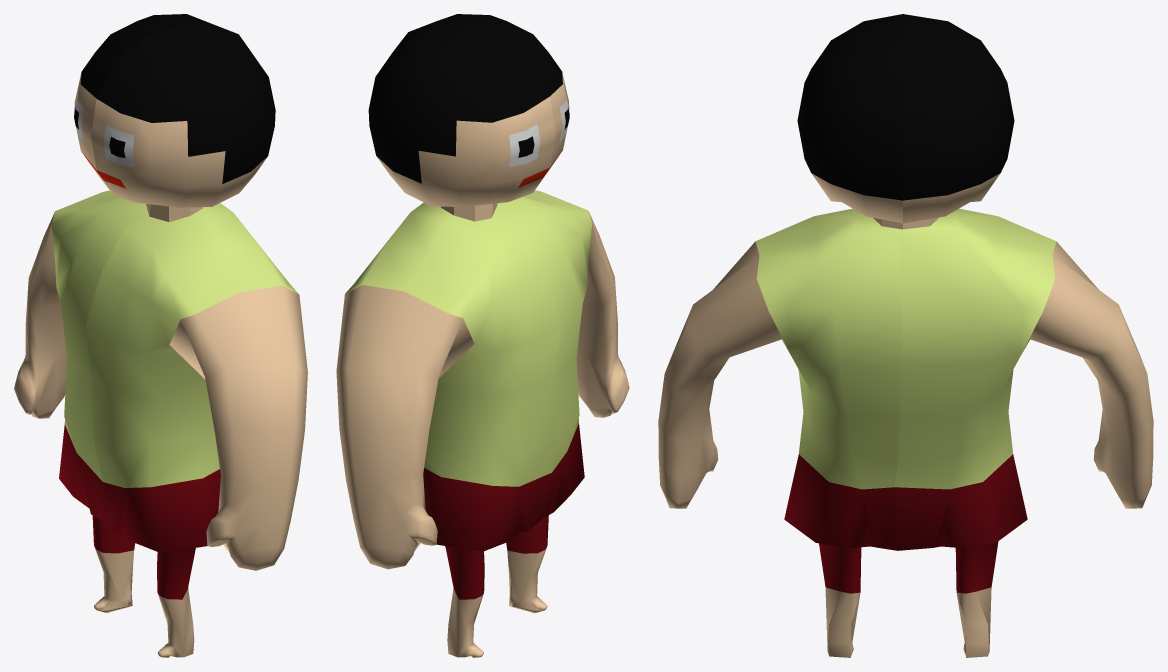
The model's file is Character.fbx.
3 views of the same model, side by side, from view 1: azimuth 30°, elevation 25°; view 2: azimuth 150°, elevation 25°; view 3: azimuth 270°, elevation 25° (orthographic). The views are drawn at different scales.
Parts seen in each view (by area): view 1: Character, legLeft, legRight; view 2: Character, legRight, legLeft; view 3: Character, legRight, legLeft.
Part boxes in pixels (x1,y1,x2,y2): Character: (14,14,307,570); legLeft: (157,548,195,657); legRight: (92,515,135,613); Character: (336,14,629,569); legRight: (445,546,484,657); legLeft: (506,515,548,613); Character: (658,14,1153,550); legRight: (955,541,998,657); legLeft: (819,543,861,657).
Size of the model in its own units: 0.00906 by 0.0295 by 0.0206.
